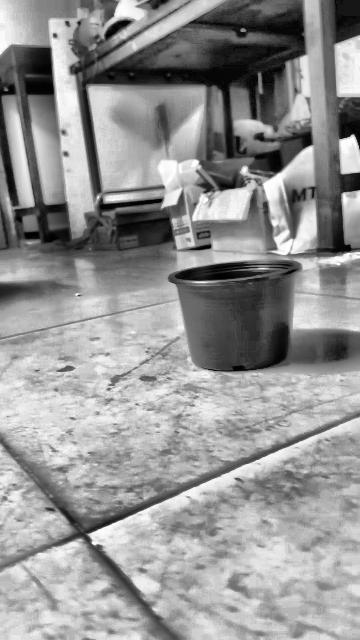pot: (167, 259, 301, 371)
